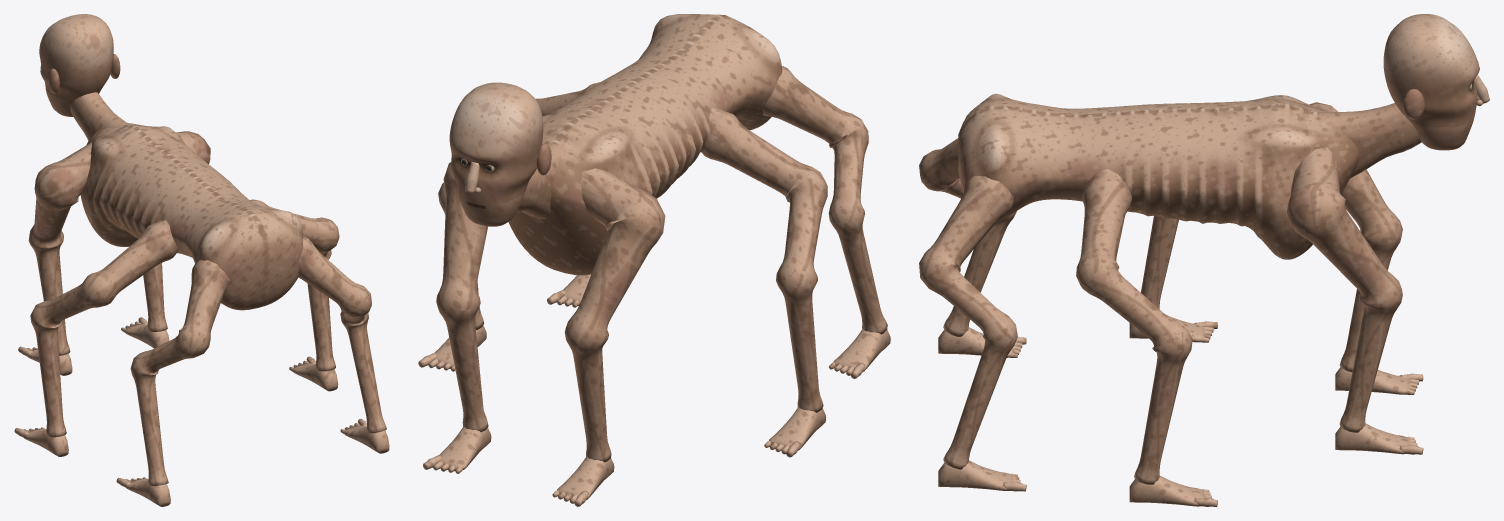
3 views of the same model, side by side, from view 1: azimuth 30°, elevation 25°; view 2: azimuth 150°, elevation 25°; view 3: azimuth 270°, elevation 25° (orthographic). The views are drawn at different scales.
Bounding box in the file's own units: 1.52 × 1.56 × 2.03.
Materials: 1 (1 with a texture image).
